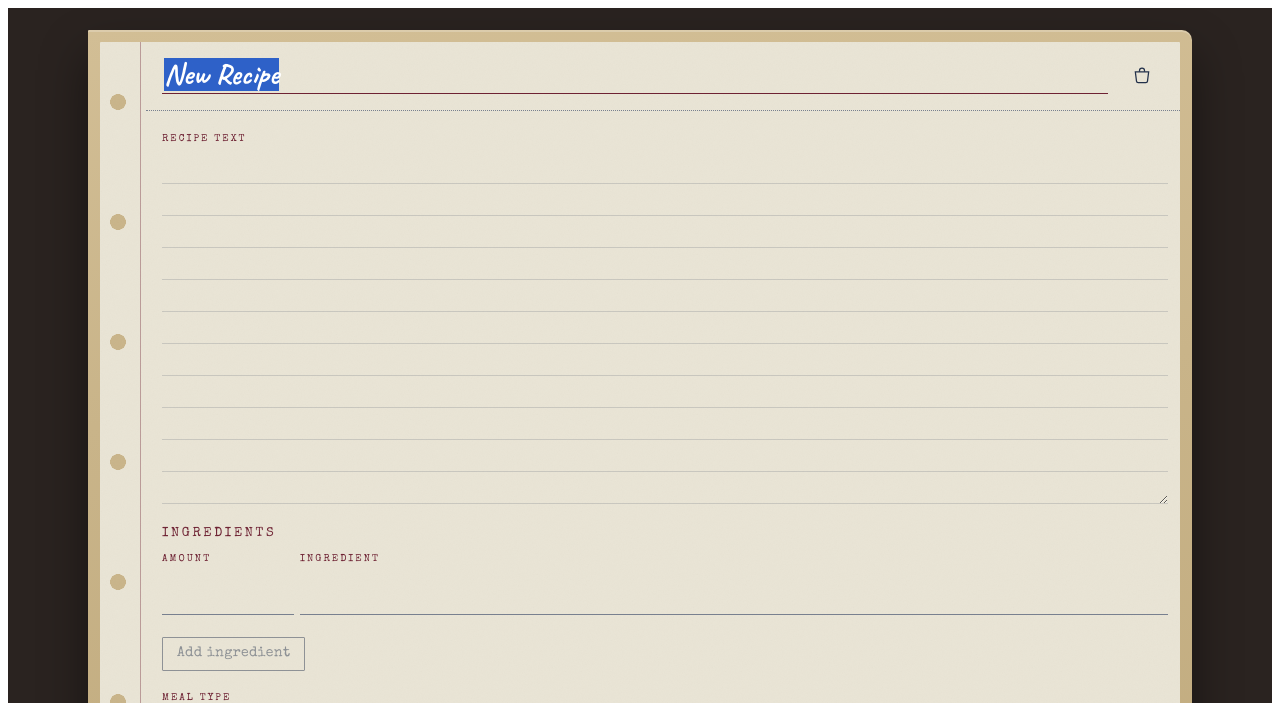
it: rejection › names the missing body
Replace the text in the field with test id "name" with "Dal" at (635, 76), box 162,58 -> 1108,94
(page scrolled)
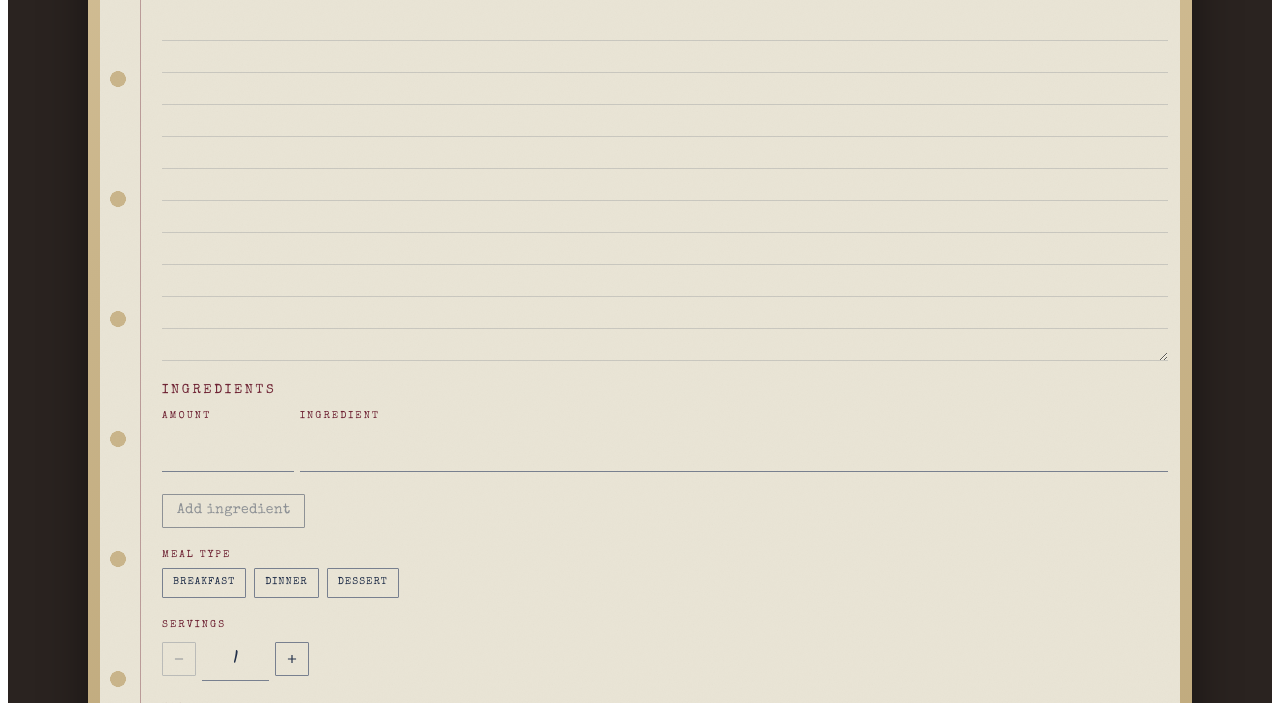
Submit the form
(page scrolled)
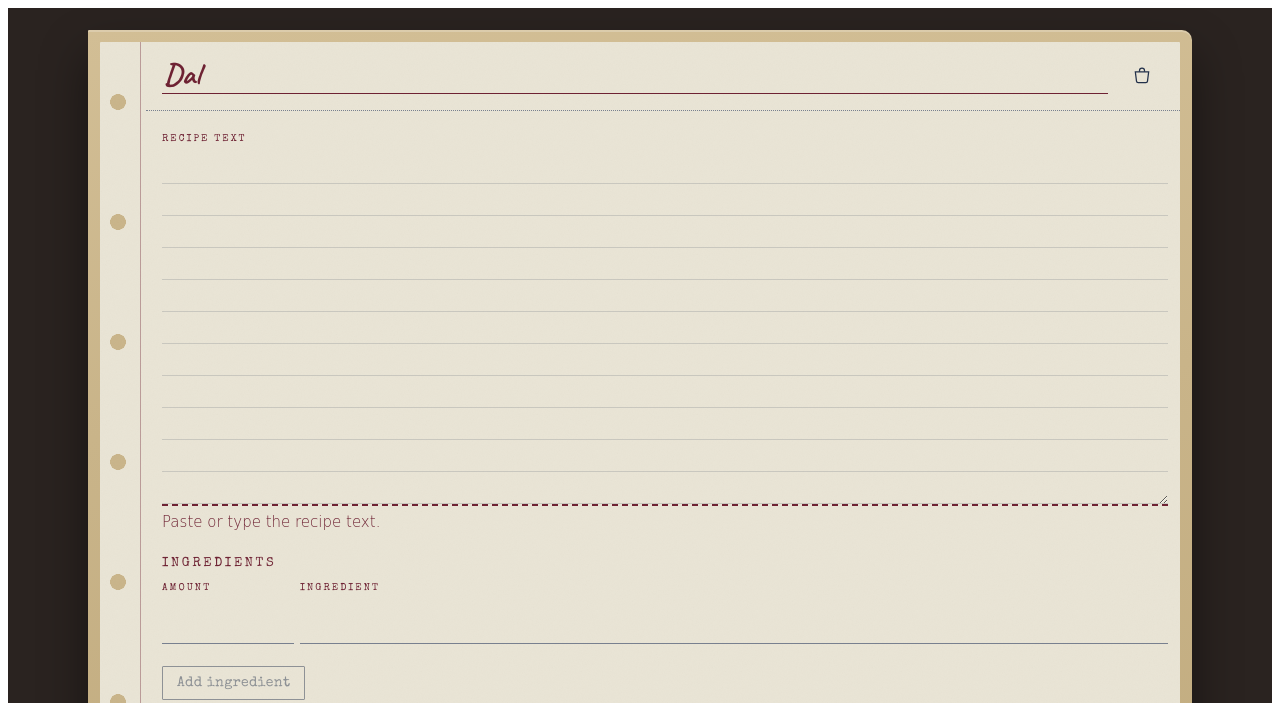
Expected: the message with test id "body-error" reads "Paste or type the recipe text.", 162,513 -> 380,531
